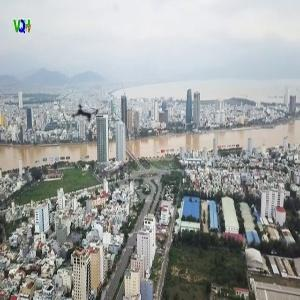drone: (57, 83, 118, 144)
